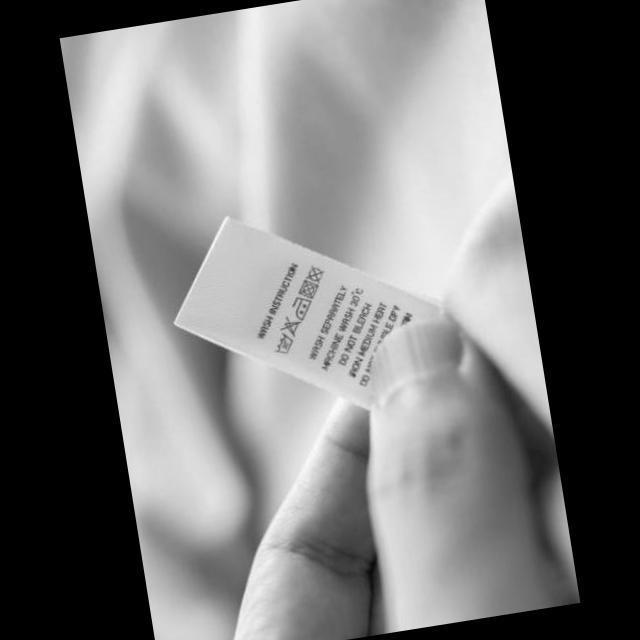30C: (270, 328, 298, 357)
DN_bleach: (276, 311, 306, 340)
DN_dry_clean: (303, 262, 329, 286)
DN_tumble_dry: (296, 276, 322, 301)
iron_medium: (289, 293, 315, 322)
